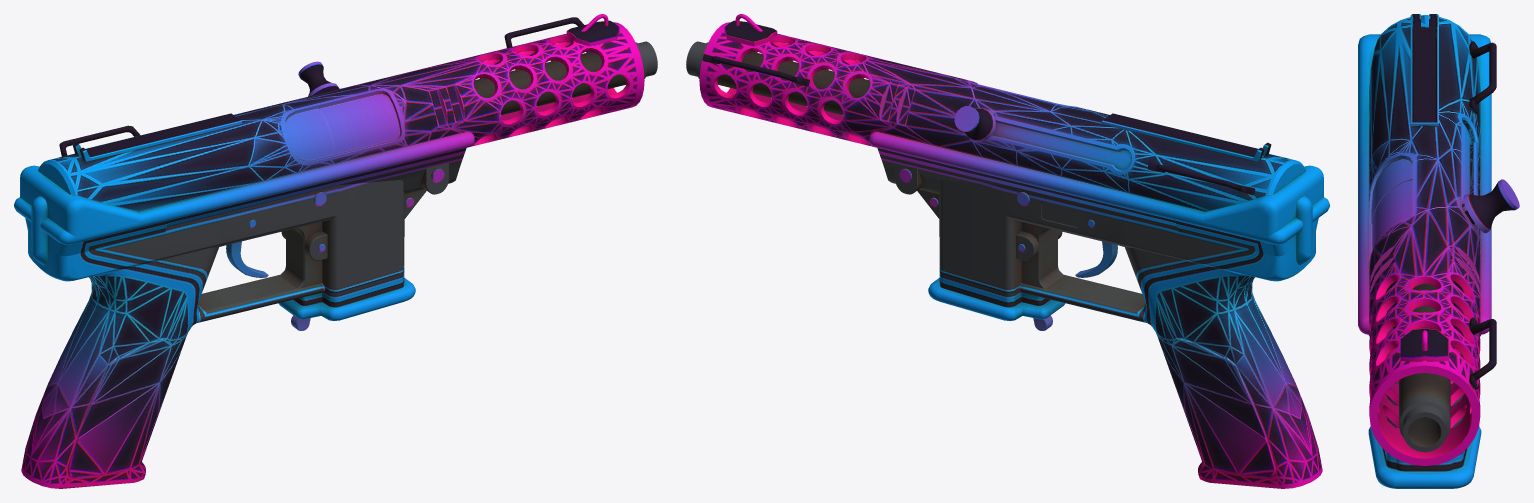
Rendered from w_machinepistol_decimator.glb.
3 renders of one model, left to right at view 1: azimuth 30°, elevation 25°; view 2: azimuth 150°, elevation 25°; view 3: azimuth 270°, elevation 25°, orthographic. The views are drawn at different scales.
Visible parts, largest first — view 1: Gun_Root; view 2: Gun_Root; view 3: Gun_Root.
Boxes of the visible parts, box(x1,y1,x2,y2) form: Gun_Root: box(14, 14, 657, 488); Gun_Root: box(686, 14, 1329, 488); Gun_Root: box(1358, 14, 1519, 488).
Size of the model in its own units: 0.3201 by 0.1684 by 0.0567.
1 material, 1 textured.
